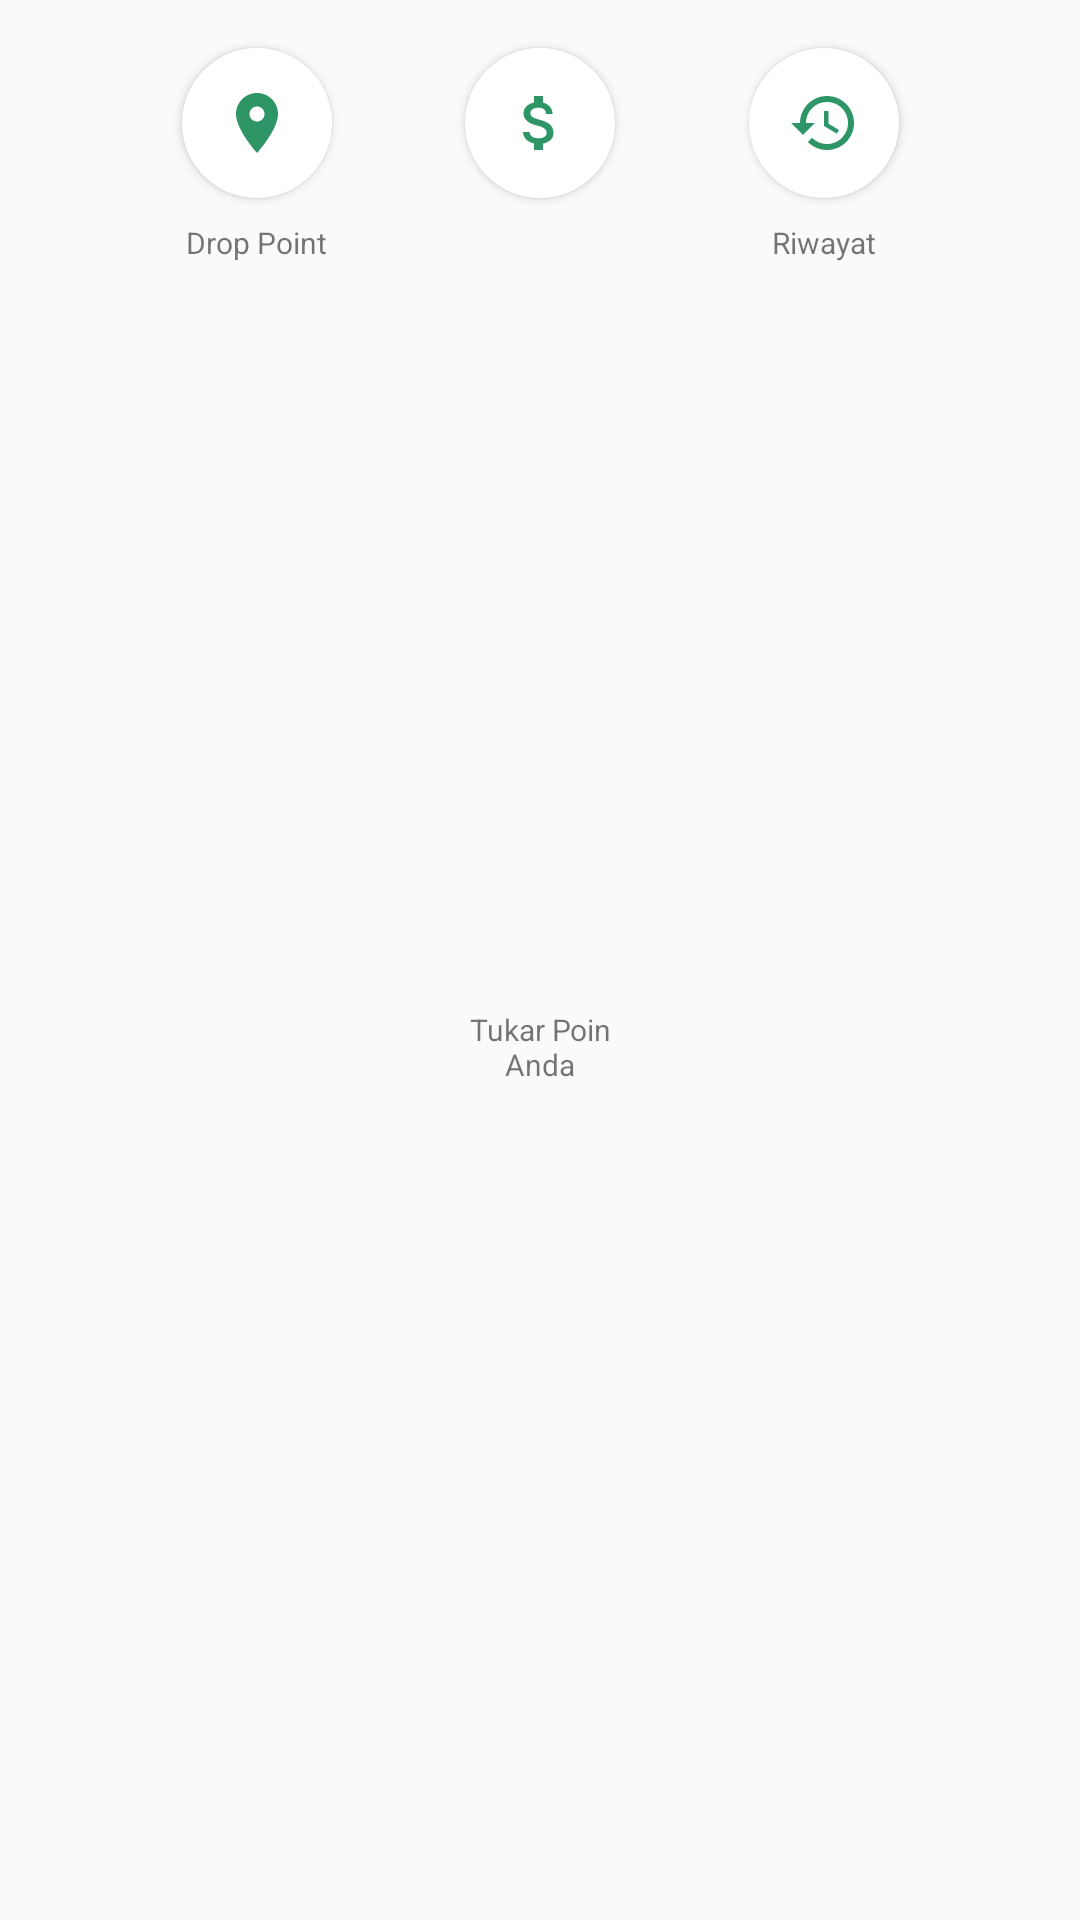

Named icons in this screenshot (1080px×1920px) and their bounding boxes, rect(x1, y1, x2, y2):
attach money: rect(467, 75, 615, 198)
location on: rect(182, 56, 293, 198)
